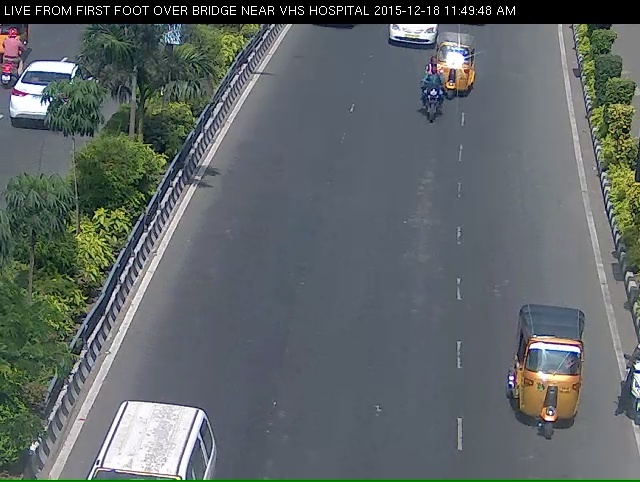Auto: (514, 313, 584, 460), (430, 41, 479, 110)
Car: (382, 23, 435, 53)
Person: (418, 68, 442, 130)
